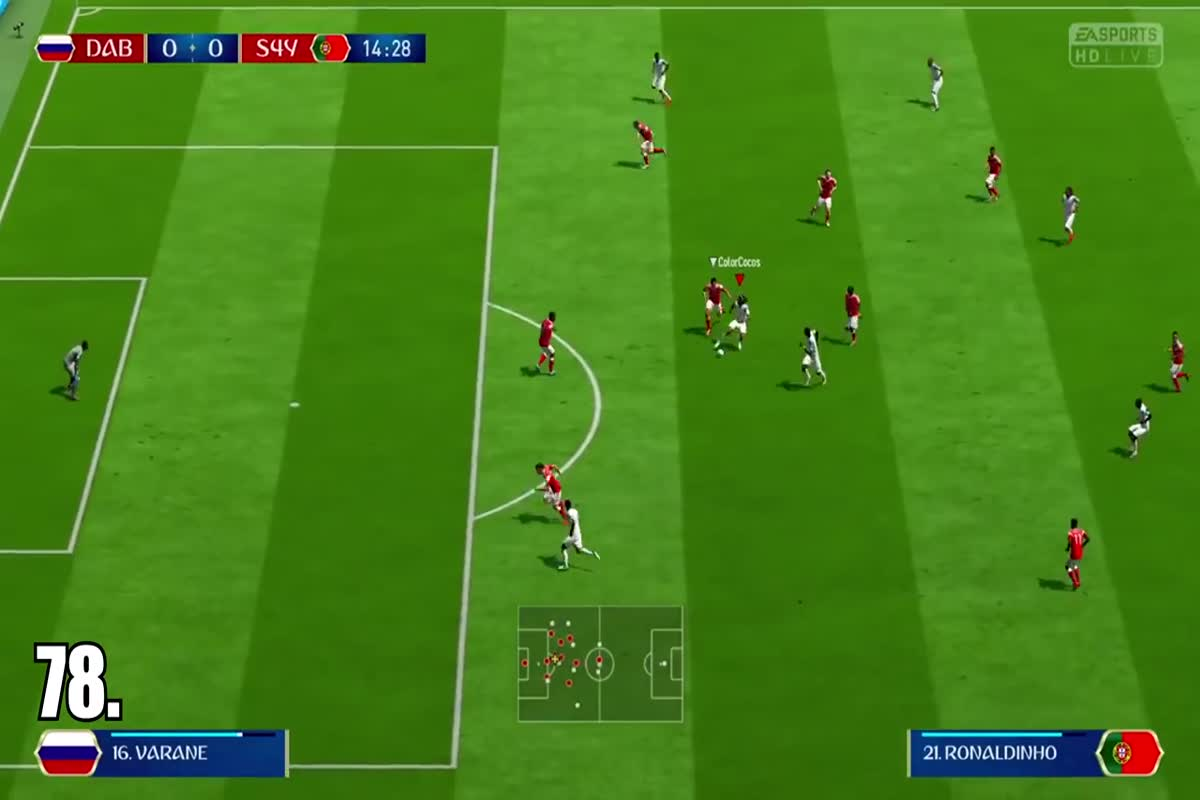ball: (709, 345, 732, 365)
